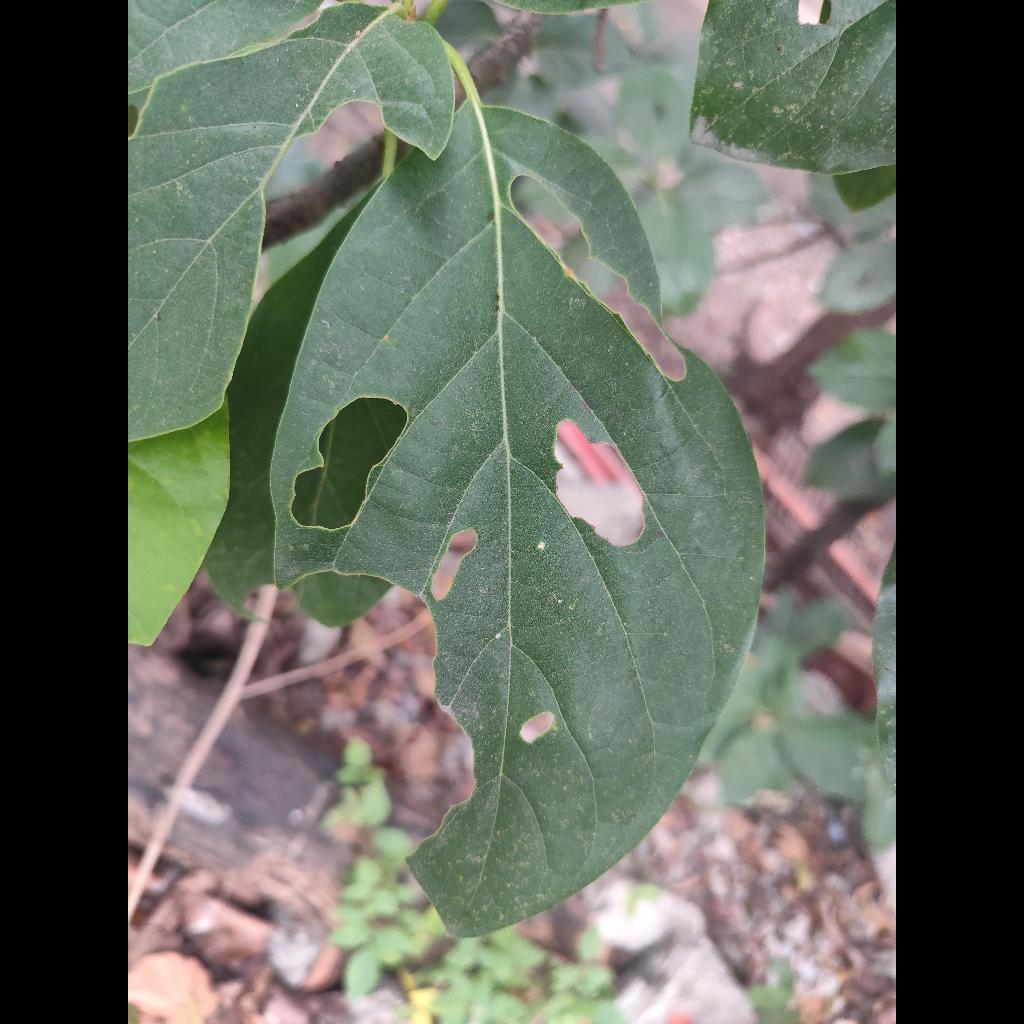plaga: (271, 104, 762, 934)
